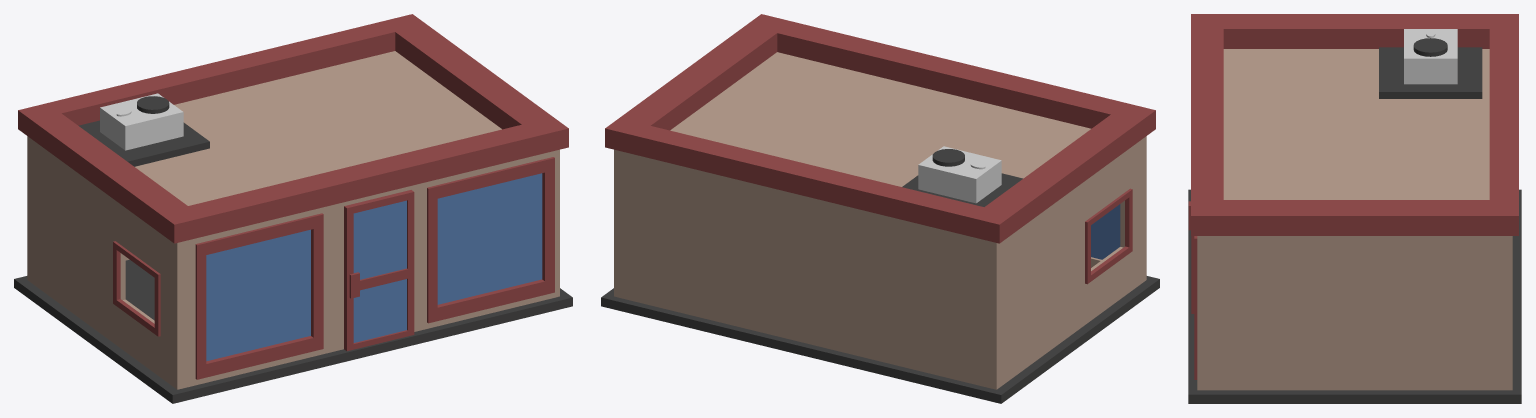
Rendered from maison2.fbx.
3 renders of one model, left to right at view 1: azimuth 30°, elevation 25°; view 2: azimuth 150°, elevation 25°; view 3: azimuth 270°, elevation 25°, orthographic. The views are drawn at different scales.
Visible parts, largest first — view 1: pCube13, pCube8, pCube2, pCube6, pCube5, pCube4, pCube11, pCube1, pCube14, pCube15, pCube10, pCube9 (+2 smaller); view 2: pCube7, pCube13, pCube8, pCube2, pCube1, pCube10, pCube16, pCube5, pCube9, pCube3, pCylinder1; view 3: pCube3, pCube8, pCube13, pCube1, pCube9, pCube10, pCube15, pCylinder1, pCube11.
Part boxes in pixels (box(x1,y1,x2,y2)): pCube13: box(18, 14, 568, 243); pCube8: box(135, 51, 501, 205); pCube2: box(27, 136, 180, 389); pCube6: box(437, 173, 542, 304); pCube5: box(206, 229, 310, 361); pCube4: box(181, 150, 557, 388); pCube11: box(344, 190, 414, 351); pCube1: box(14, 259, 572, 403); pCube14: box(195, 213, 323, 379); pCube15: box(427, 157, 554, 323); pCube10: box(100, 93, 183, 150); pCube9: box(78, 120, 209, 166); pCube7: box(618, 151, 991, 388); pCube13: box(605, 14, 1155, 243); pCube8: box(670, 52, 1090, 186); pCube2: box(991, 136, 1146, 389); pCube1: box(601, 276, 1159, 403); pCube10: box(918, 146, 1001, 203); pCube16: box(1085, 188, 1132, 284); pCube5: box(1091, 204, 1120, 259); pCube9: box(902, 173, 1022, 206); pCube3: box(614, 149, 618, 297); pCylinder1: box(932, 149, 964, 166); pCube3: box(1197, 236, 1512, 390); pCube8: box(1223, 49, 1489, 199); pCube13: box(1191, 14, 1518, 235); pCube1: box(1188, 189, 1521, 403); pCube9: box(1379, 47, 1482, 98); pCube10: box(1404, 29, 1457, 84); pCube15: box(1194, 236, 1197, 379); pCylinder1: box(1413, 38, 1447, 56); pCube11: box(1191, 236, 1194, 313).
Bounding box in the file's own units: 47.25 × 21.79 × 32.44.
